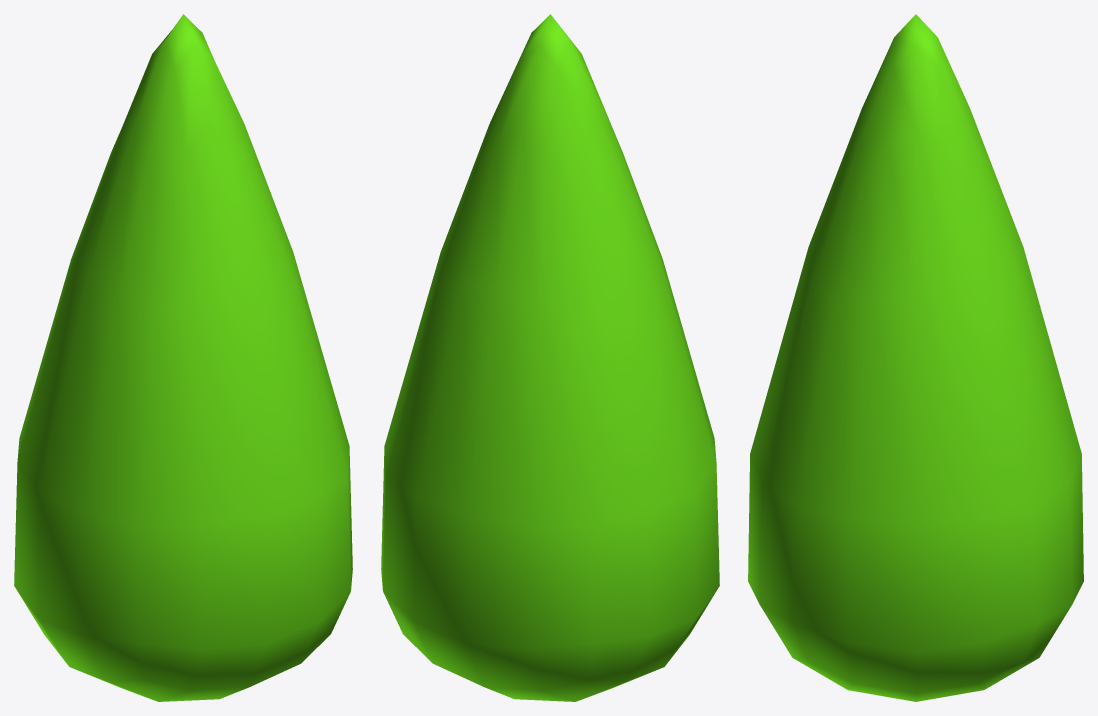
Rendered from PTear.fbx.
3 views of the same model, side by side, from view 1: azimuth 30°, elevation 25°; view 2: azimuth 150°, elevation 25°; view 3: azimuth 270°, elevation 25° (orthographic).
Visible parts, largest first — view 1: Puppy Tears.001; view 2: Puppy Tears.001; view 3: Puppy Tears.001.
Part boxes in pixels (box(x1,y1,x2,y2)): Puppy Tears.001: box(14, 14, 352, 701); Puppy Tears.001: box(381, 14, 719, 701); Puppy Tears.001: box(748, 14, 1083, 701).
Size of the model in its own units: 60.84 by 134 by 60.84.
